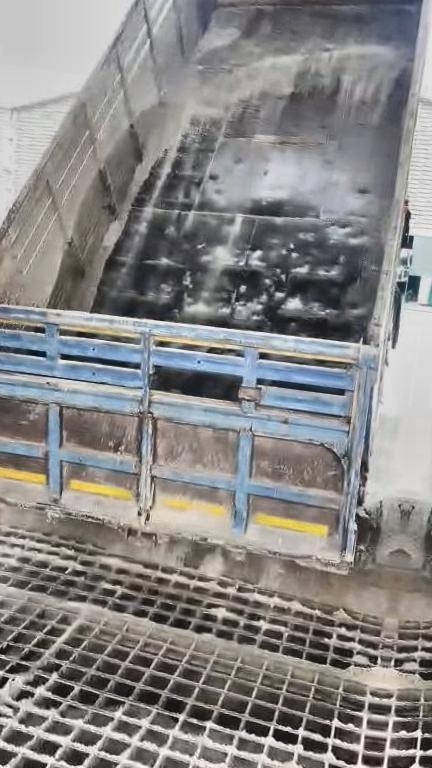sand: (50, 45, 392, 311), (0, 436, 399, 628), (0, 553, 314, 667), (318, 663, 386, 691), (0, 681, 16, 768), (203, 24, 240, 51)
